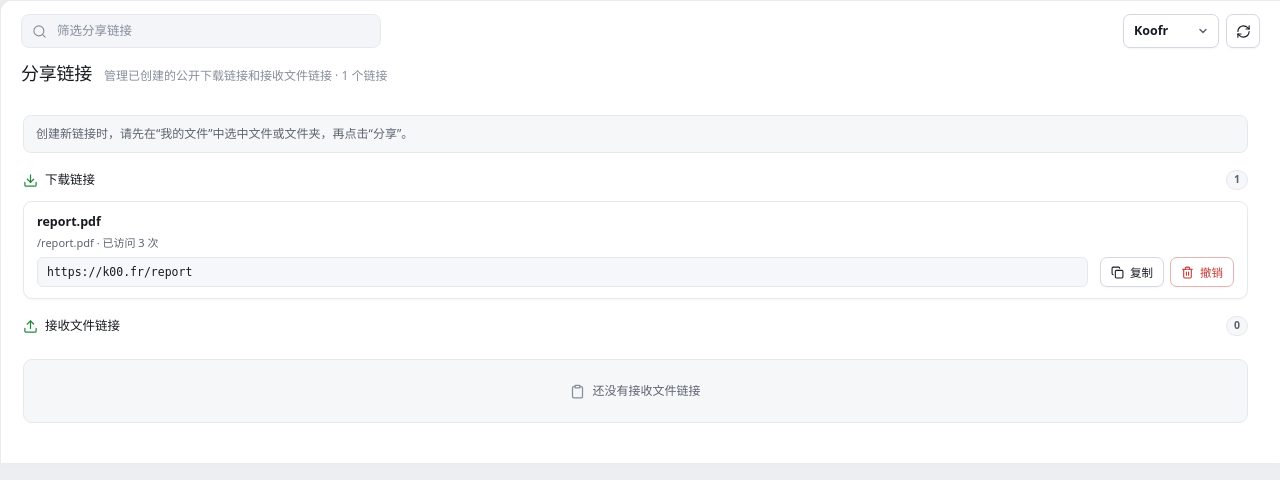
Test: ShareLinksWorkspace › loads links for the selected storage and supports filtering
This screenshot has width=1280, height=480.
Expected: the field named "report.pdf 的链接地址" holds "https://k00.fr/report", top-left (37, 257), bottom-right (1088, 287)
Type "missing" into the search field labelled "筛选分享链接" at x=212, y=31, box top-left (55, 21), bottom-right (370, 41)
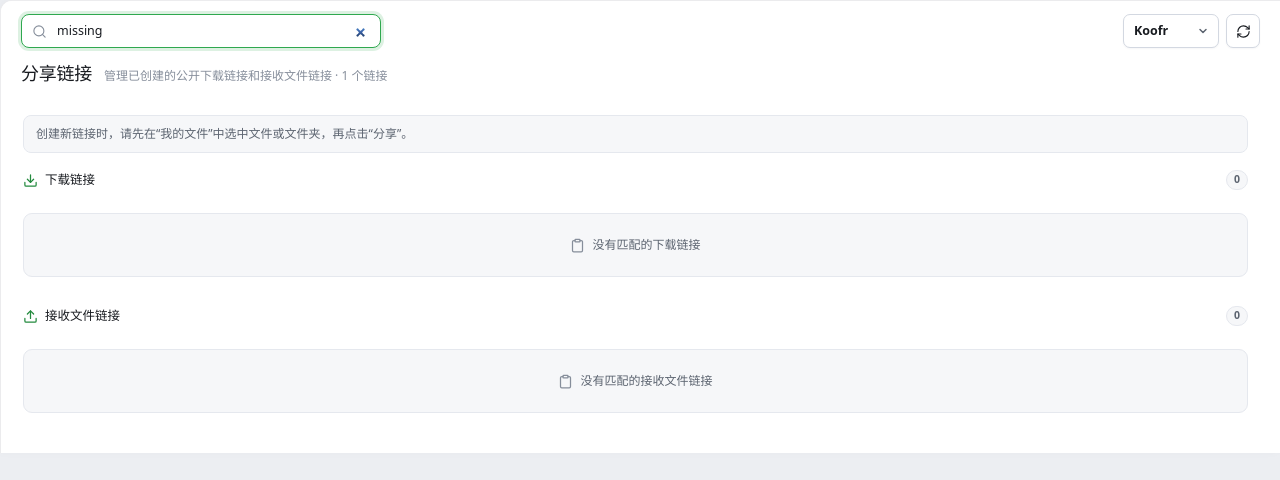
Now the text "没有匹配的下载链接" is shown, box top-left (23, 213), bottom-right (1248, 277)
